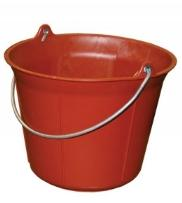SEAU: (0, 0, 182, 197)
